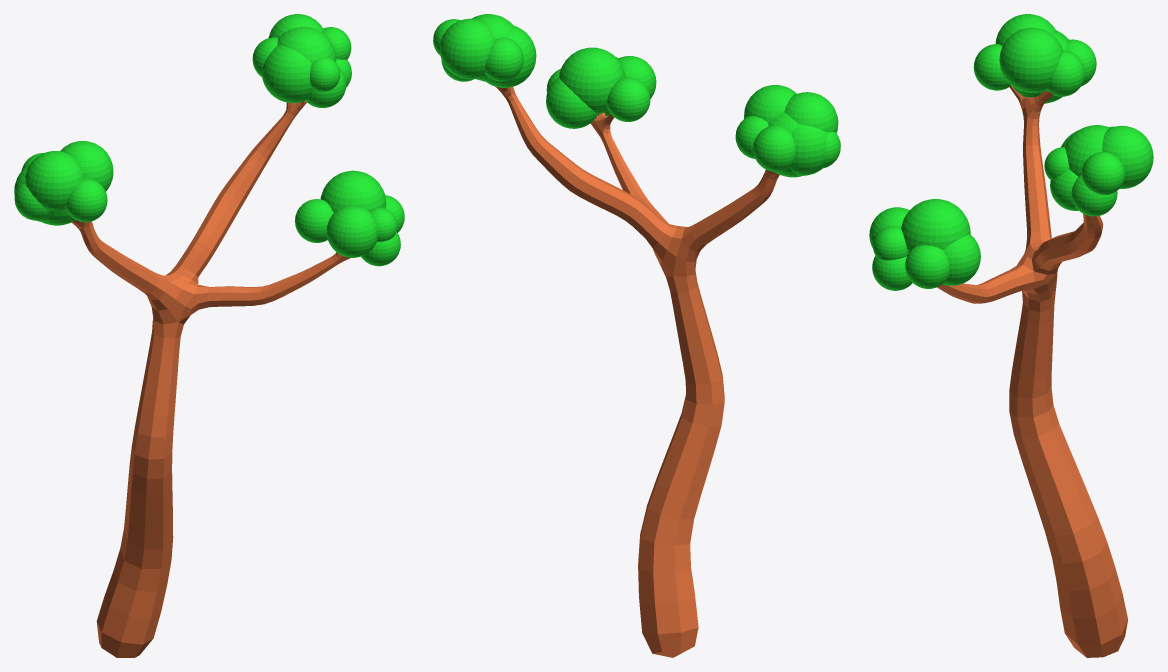
Rendered from Tree1.glb.
3 views of the same model, side by side, from view 1: azimuth 30°, elevation 25°; view 2: azimuth 150°, elevation 25°; view 3: azimuth 270°, elevation 25° (orthographic). The views are drawn at different scales.
Parts seen in each view (by area): view 1: Cube, Sphere.022, Sphere.016, Sphere.014, Sphere.011, Sphere.023, Sphere.003, Sphere.010, Sphere.001, Sphere.008, Sphere.004, Sphere.009 (+4 smaller); view 2: Cube, Sphere.011, Sphere.018, Sphere.012, Sphere.020, Sphere.022, Sphere.001, Sphere.021, Sphere.006, Sphere.023, Sphere.016, Sphere.005 (+2 smaller); view 3: Cube, Sphere.023, Sphere.011, Sphere.018, Sphere.002, Sphere.017, Sphere.012, Sphere.010, Sphere.005, Sphere.003, Sphere.007, Sphere.009 (+6 smaller).
Boxes of the visible parts, <box> form: Cube: <box>71,101,350,657</box>; Sphere.022: <box>25,151,83,211</box>; Sphere.016: <box>262,45,313,103</box>; Sphere.014: <box>326,205,377,257</box>; Sphere.011: <box>320,170,386,212</box>; Sphere.023: <box>60,141,113,191</box>; Sphere.003: <box>65,178,107,222</box>; Sphere.010: <box>277,27,336,63</box>; Sphere.001: <box>295,199,333,242</box>; Sphere.008: <box>310,57,340,91</box>; Sphere.004: <box>14,183,48,220</box>; Sphere.009: <box>361,231,400,266</box>; Cube: <box>495,86,779,657</box>; Sphere.011: <box>559,47,625,114</box>; Sphere.018: <box>439,18,494,79</box>; Sphere.012: <box>546,77,597,128</box>; Sphere.020: <box>753,125,795,171</box>; Sphere.022: <box>784,92,838,132</box>; Sphere.001: <box>606,77,650,121</box>; Sphere.021: <box>790,124,827,175</box>; Sphere.006: <box>485,37,523,81</box>; Sphere.023: <box>744,85,796,122</box>; Sphere.016: <box>485,25,536,87</box>; Sphere.005: <box>735,116,768,158</box>; Cube: <box>937,85,1127,657</box>; Sphere.023: <box>999,27,1062,92</box>; Sphere.011: <box>901,199,970,253</box>; Sphere.018: <box>1102,125,1153,188</box>; Sphere.002: <box>905,245,949,288</box>; Sphere.017: <box>1081,152,1125,194</box>; Sphere.012: <box>943,234,980,285</box>; Sphere.010: <box>1064,125,1110,176</box>; Sphere.005: <box>1046,50,1084,96</box>; Sphere.003: <box>973,44,1010,90</box>; Sphere.007: <box>1071,175,1117,216</box>; Sphere.009: <box>872,256,912,290</box>.
Size of the model in its own units: 7.82 by 12.05 by 5.
